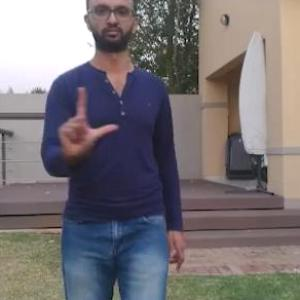land_hand: (49, 82, 120, 166)
